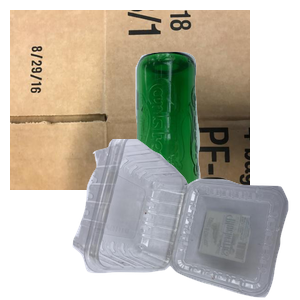cardboard: (10, 10, 250, 190)
glass: (129, 49, 300, 229)
plastic: (70, 139, 300, 300)
trash: (92, 158, 277, 300)
